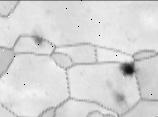good_void: (102, 80, 129, 108), (117, 59, 139, 80), (32, 35, 46, 47)
